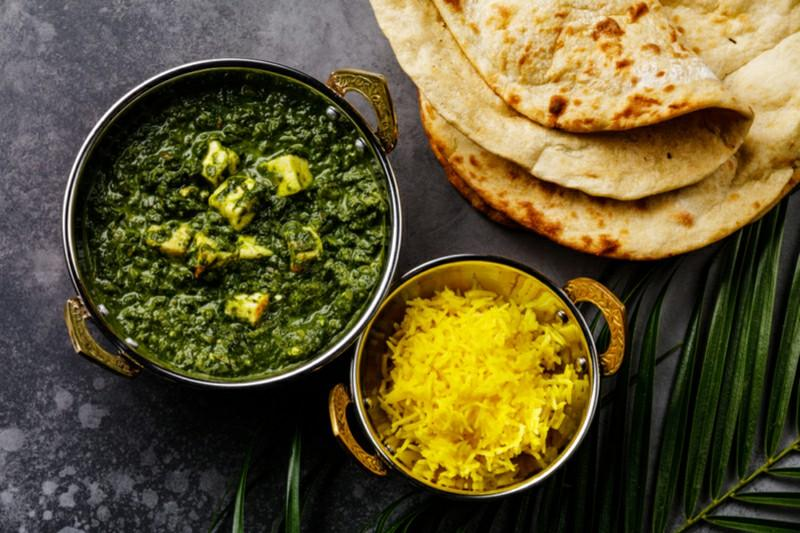PalakPaneer: (88, 80, 387, 380)
